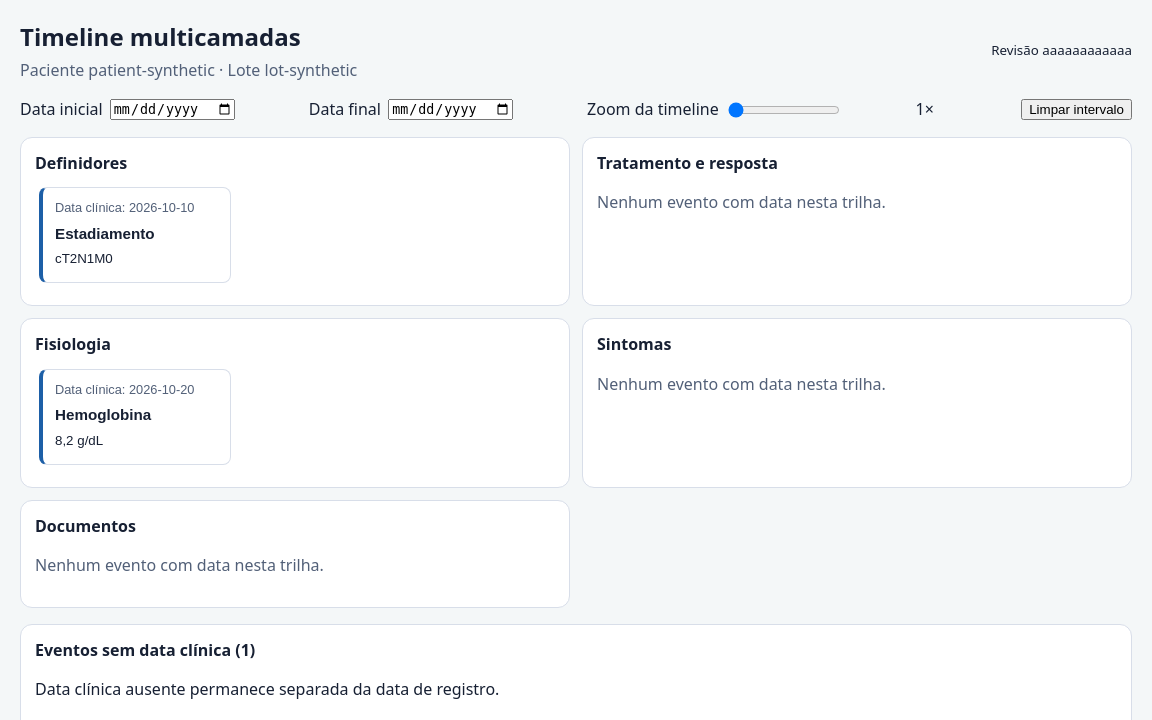
it: TimelineMulticamadas › exibe as cinco trilhas e seleciona evento para detalhes, proveniência e trecho
Expected: the element "Definidores" is shown, x1=20 y1=137 x2=570 y2=306
Expected: the element "Tratamento e resposta" is shown, x1=582 y1=137 x2=1132 y2=306
Click the button "Data clínica: 2026-10-10 Estadiamento cT2N1M0" at (135, 235), box x1=39 y1=187 x2=231 y2=283
(page scrolled)
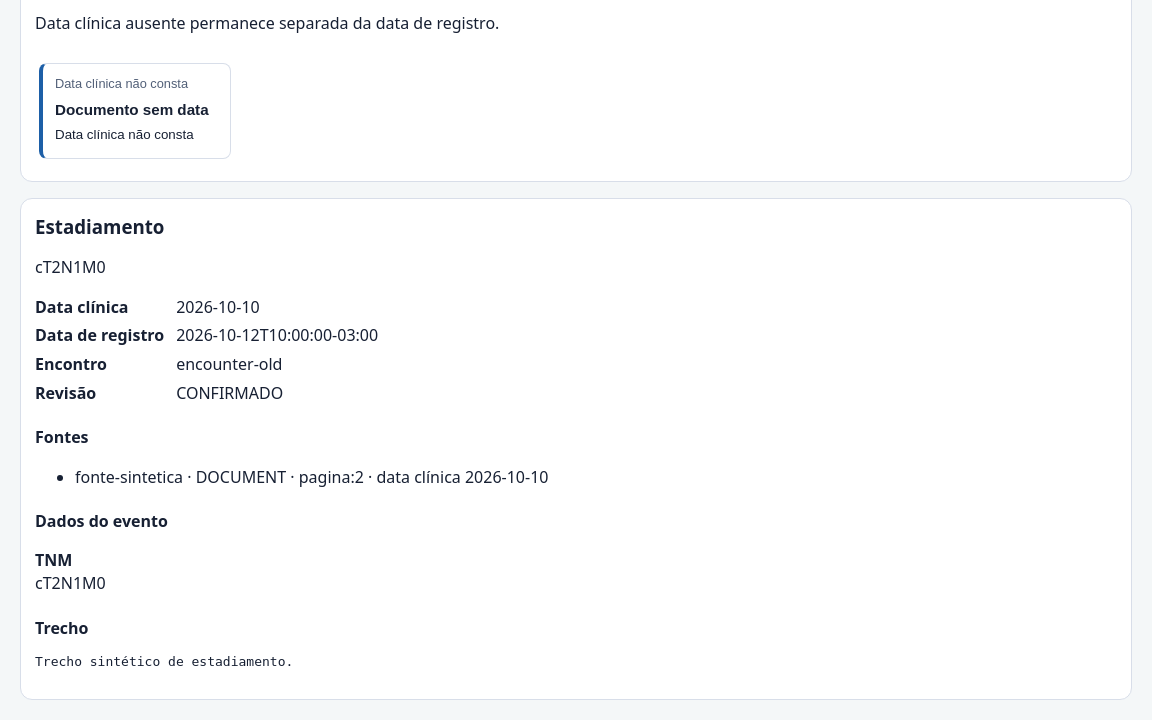
Expected: the element named "Detalhes do evento" shows "Trecho sintético de estadiamento.", x1=35 y1=654 x2=293 y2=669
Expected: the element named "Detalhes do evento" shows "fonte-sintetica", x1=75 y1=466 x2=183 y2=488
Expected: the element named "Detalhes do evento" shows "2026-10-10", x1=176 y1=296 x2=260 y2=318
